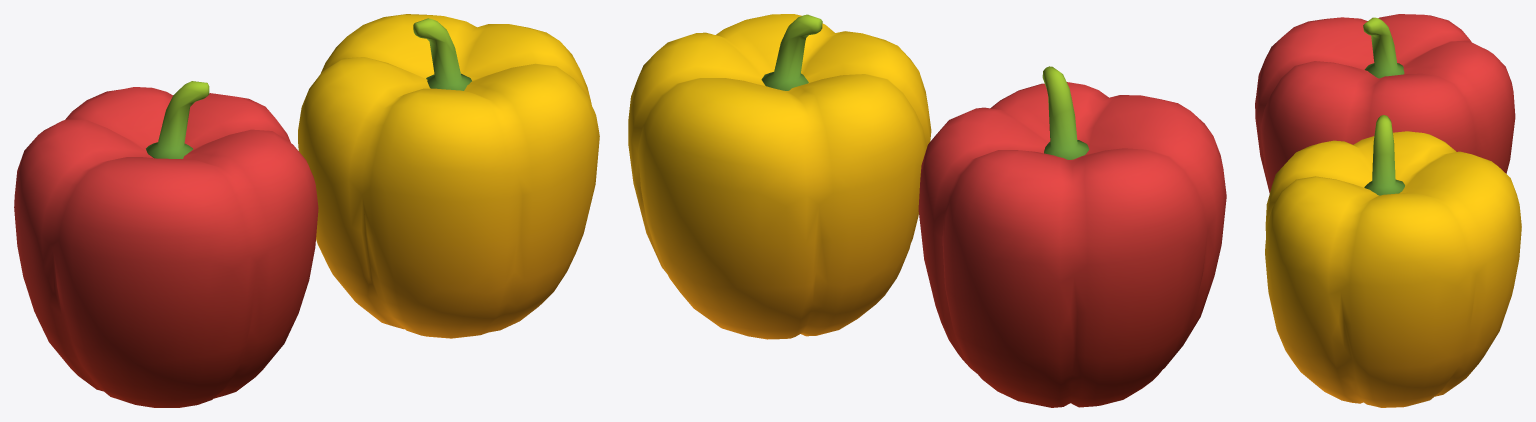
File: Sweet Pepper.fbx
3 views of the same model, side by side, from view 1: azimuth 30°, elevation 25°; view 2: azimuth 150°, elevation 25°; view 3: azimuth 270°, elevation 25° (orthographic). The views are drawn at different scales.
Parts seen in each view (by area): view 1: Sweet Pepper 2, Sweet Pepper; view 2: Sweet Pepper 2, Sweet Pepper; view 3: Sweet Pepper, Sweet Pepper 2.
Part boxes in pixels (bbox=[...]): Sweet Pepper 2: bbox=[14, 81, 318, 407]; Sweet Pepper: bbox=[298, 14, 599, 338]; Sweet Pepper 2: bbox=[918, 66, 1226, 407]; Sweet Pepper: bbox=[628, 14, 931, 339]; Sweet Pepper: bbox=[1265, 115, 1521, 407]; Sweet Pepper 2: bbox=[1255, 14, 1515, 192].
Size of the model in its own units: 20.56 by 10.8 by 10.1.
